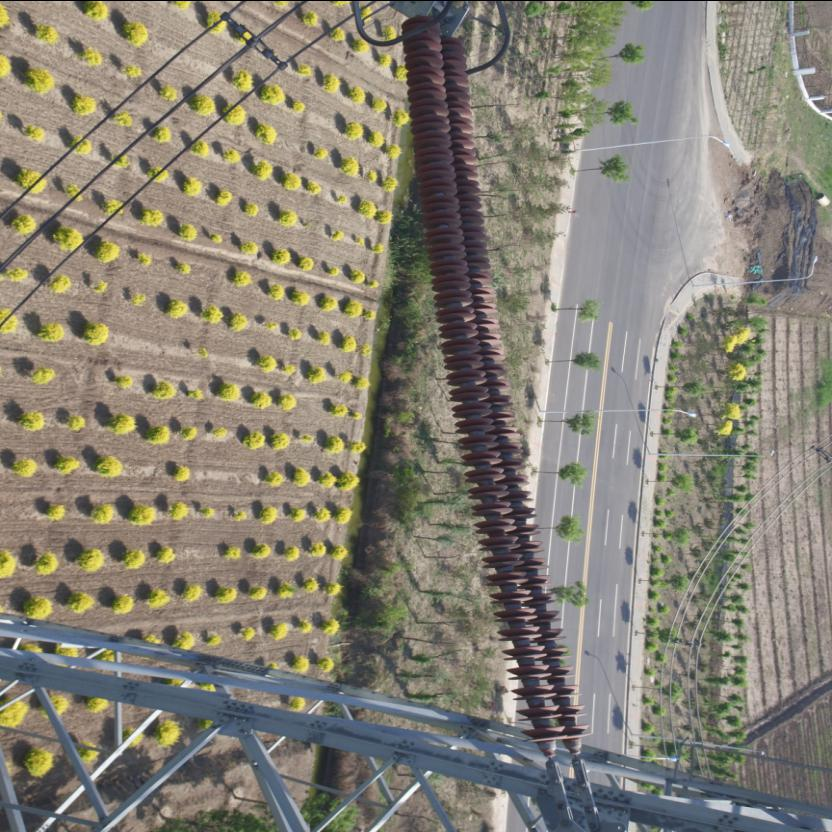insulator: (402, 1, 600, 803)
